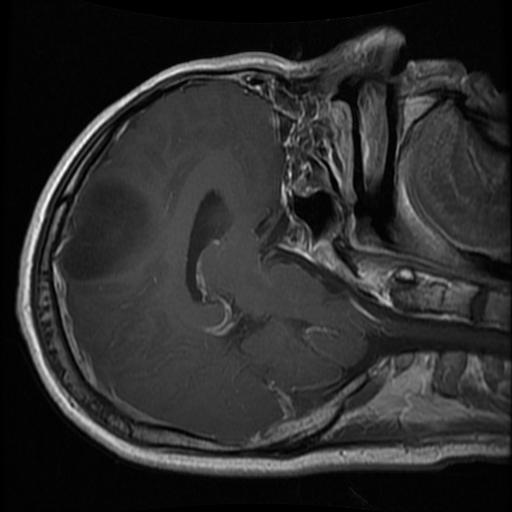glioma: (60, 175, 153, 280)
